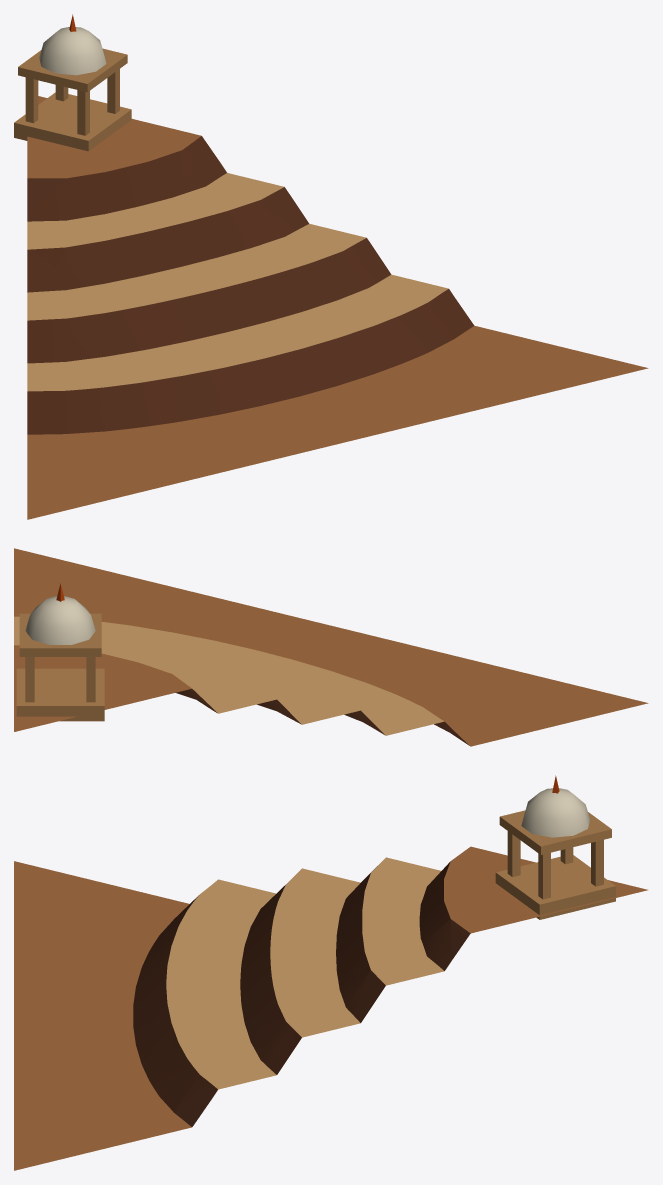
Rendered from MODULE_STEPWELL_RAMP_CORNER_KIOSK.fbx.
The picture shows the model from 3 angles, top to bottom: view 1: azimuth 30°, elevation 25°; view 2: azimuth 150°, elevation 25°; view 3: azimuth 270°, elevation 25°; orthographic projection. The views are drawn at different scales.
Parts seen in each view (by area): view 1: MODULE_STEPWELL_RAMP_CORNER_KIOSK__export, MODULE_STEPWELL_RAMP_CORNER_KIOSK_DECOR__export; view 2: MODULE_STEPWELL_RAMP_CORNER_KIOSK__export, MODULE_STEPWELL_RAMP_CORNER_KIOSK_DECOR__export; view 3: MODULE_STEPWELL_RAMP_CORNER_KIOSK__export, MODULE_STEPWELL_RAMP_CORNER_KIOSK_DECOR__export.
Boxes of the visible parts, left/top/right/bottom form: MODULE_STEPWELL_RAMP_CORNER_KIOSK__export: left=27, top=96, right=648, bottom=519; MODULE_STEPWELL_RAMP_CORNER_KIOSK_DECOR__export: left=14, top=14, right=131, bottom=151; MODULE_STEPWELL_RAMP_CORNER_KIOSK__export: left=14, top=548, right=648, bottom=746; MODULE_STEPWELL_RAMP_CORNER_KIOSK_DECOR__export: left=16, top=583, right=104, bottom=721; MODULE_STEPWELL_RAMP_CORNER_KIOSK__export: left=14, top=846, right=647, bottom=1170; MODULE_STEPWELL_RAMP_CORNER_KIOSK_DECOR__export: left=495, top=775, right=615, bottom=919.
Bounding box in the file's own units: 100 × 36.25 × 86.6.
